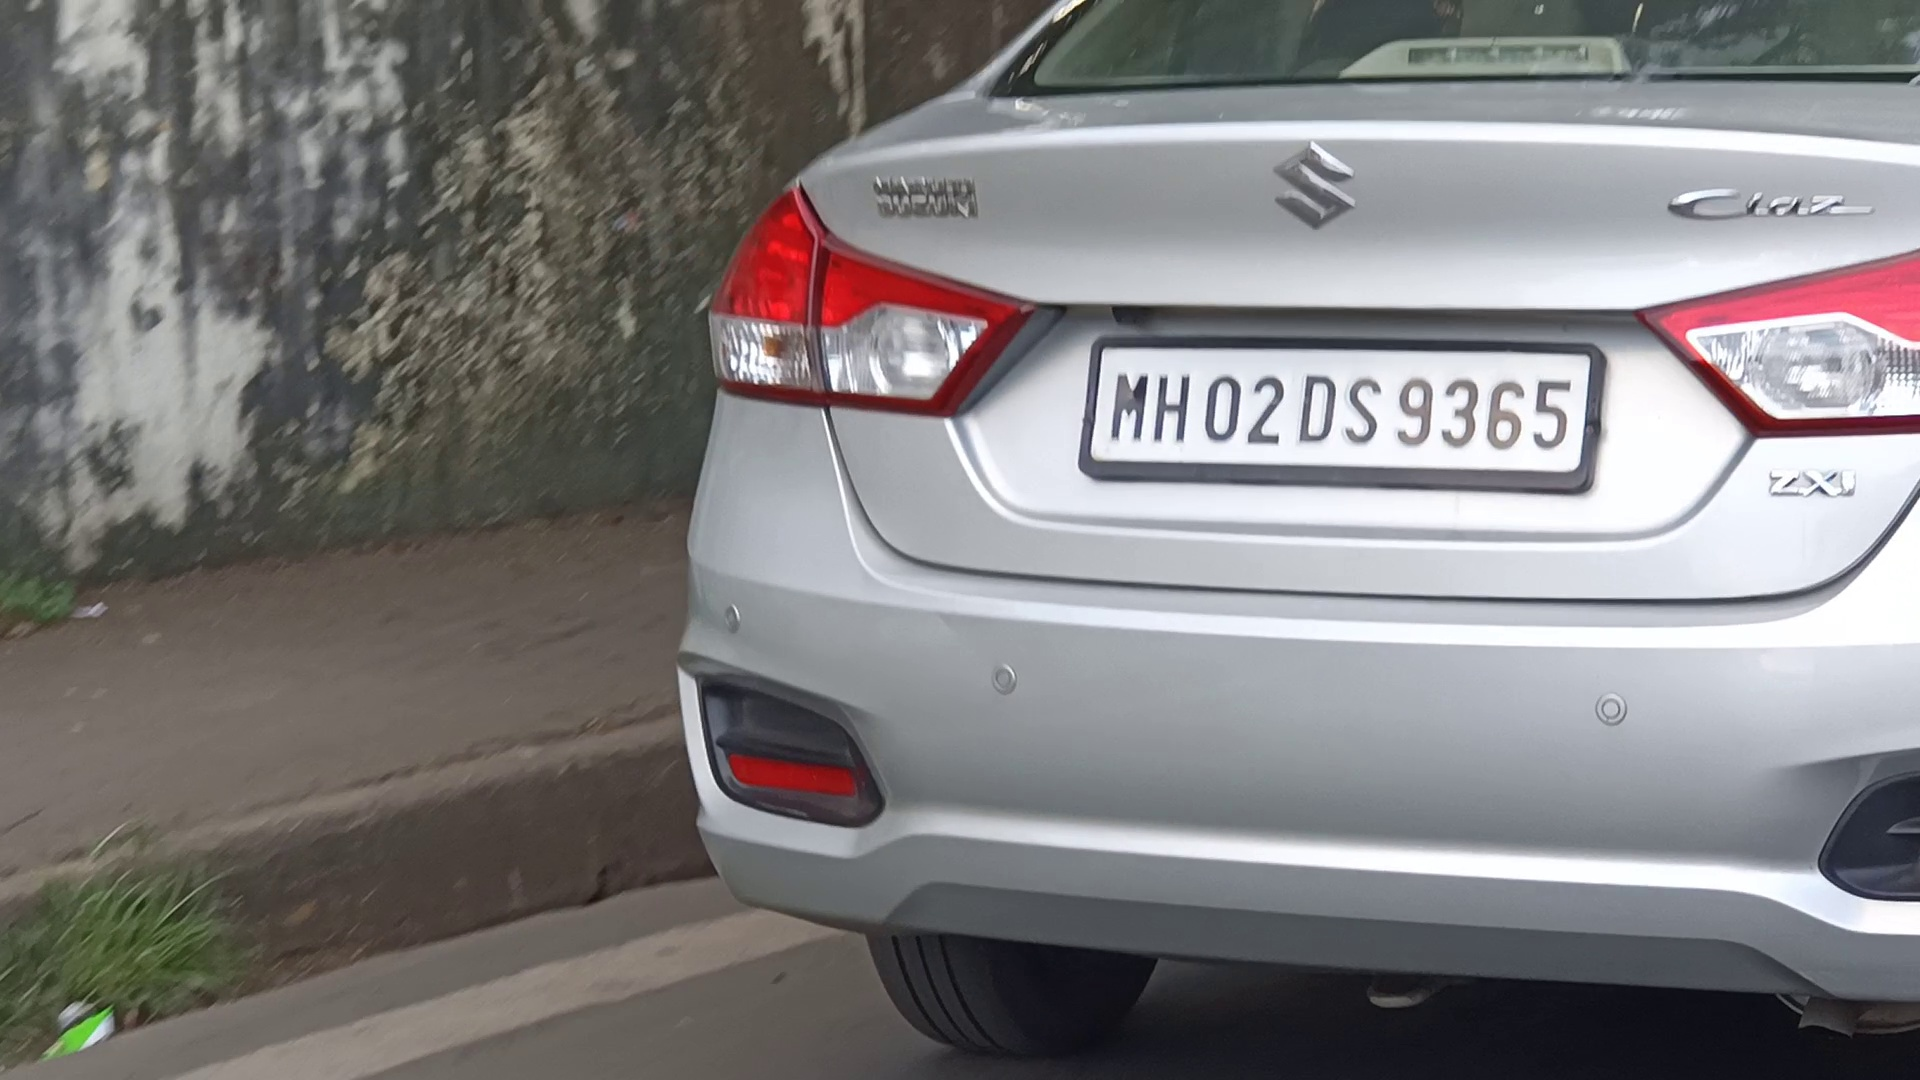MH02DS9365: (1086, 335, 1593, 476)
